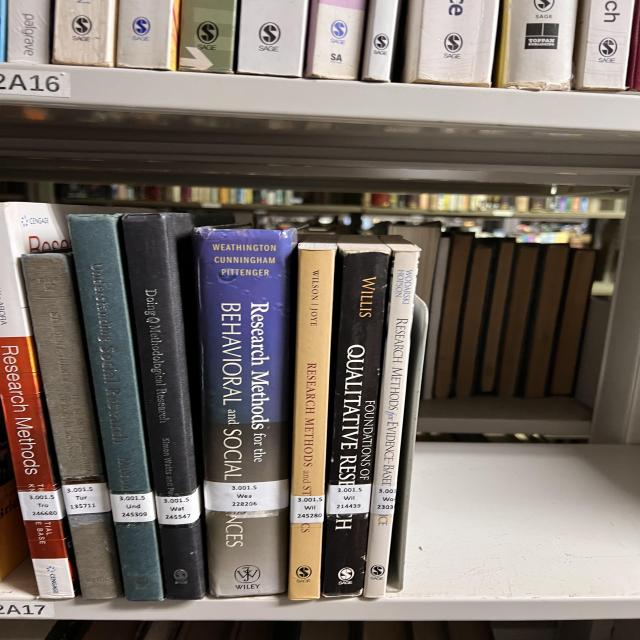Book: (0, 202, 98, 599), (193, 228, 297, 598), (67, 215, 163, 601), (22, 252, 123, 600), (122, 212, 207, 600), (322, 236, 390, 596), (363, 235, 420, 598), (288, 240, 337, 600)
Label: (203, 479, 288, 511), (155, 488, 200, 525), (62, 482, 110, 515), (18, 489, 65, 521), (110, 492, 155, 522), (290, 495, 325, 524), (372, 485, 397, 515), (348, 502, 352, 505)
